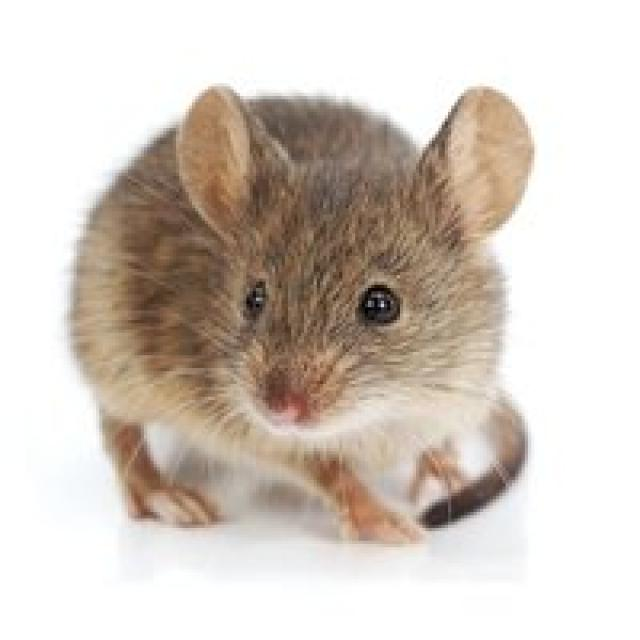Mouse: (55, 68, 538, 542)
